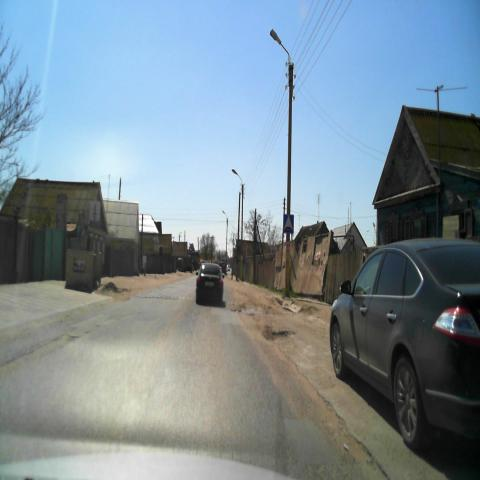5_20: (283, 213, 295, 235)
